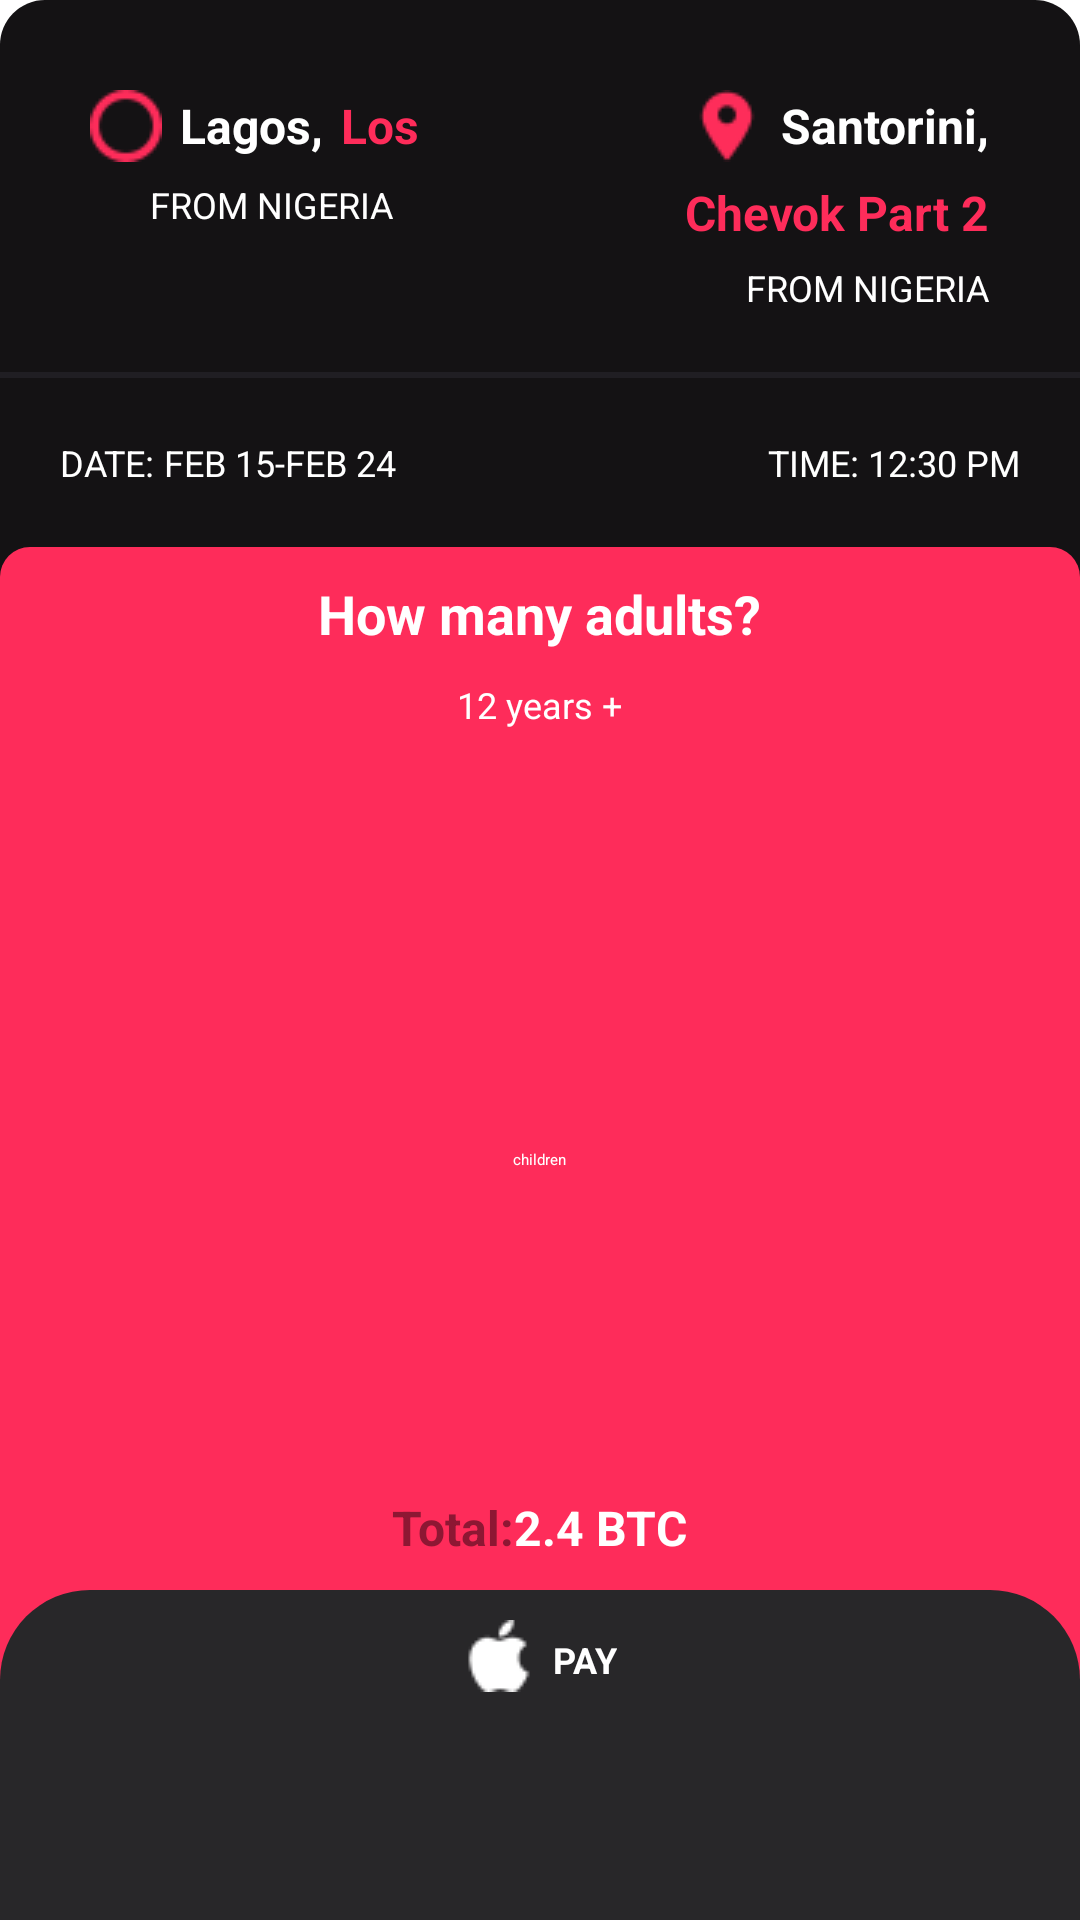

Named icons in this screenshot (1080w x 1920h) and their bounding boxes, rect(x1, y1, x2, y2):
map: rect(700, 90, 754, 160)
rec: rect(90, 90, 162, 162)
